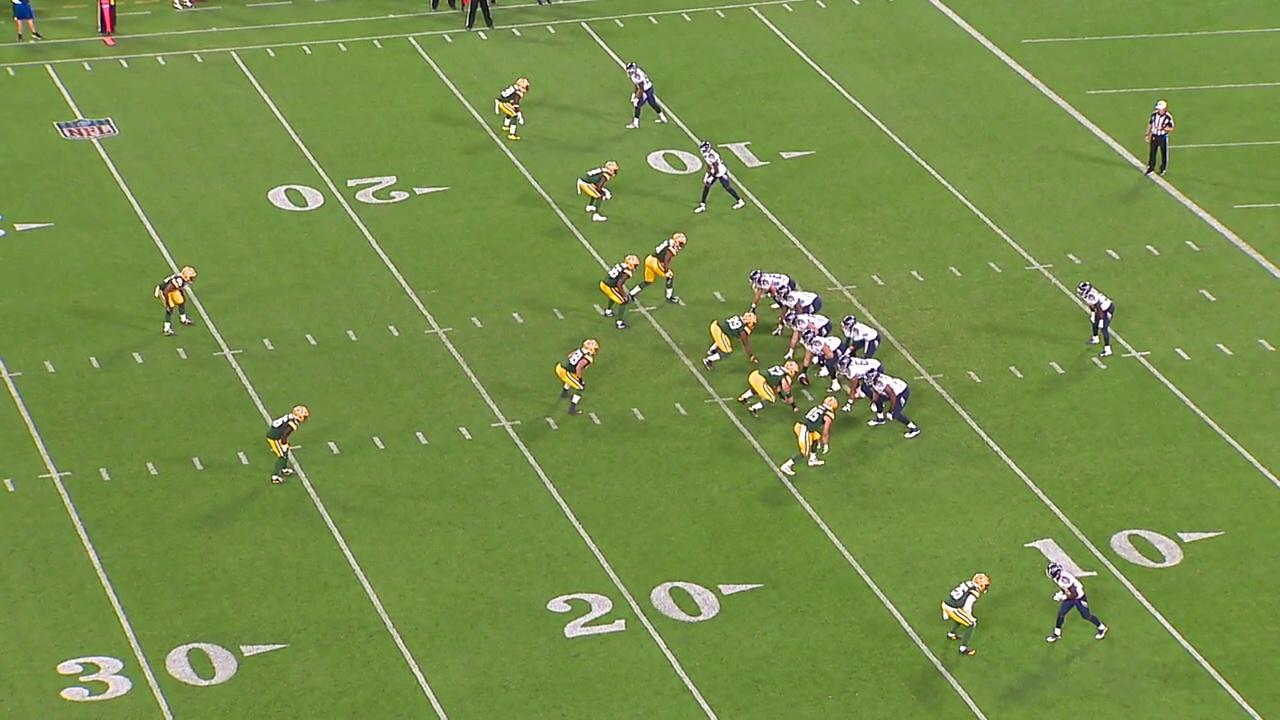five_hash: (422, 326, 453, 334), (628, 305, 658, 313), (490, 420, 523, 427), (211, 349, 244, 356), (826, 284, 858, 291), (1120, 351, 1151, 358), (1025, 263, 1055, 270), (702, 397, 736, 403), (911, 374, 944, 380)
hash: (0, 476, 19, 495), (369, 434, 389, 452), (541, 415, 562, 432), (1007, 363, 1026, 381), (187, 454, 206, 472), (629, 406, 649, 423), (455, 425, 475, 442), (233, 450, 253, 467), (1214, 342, 1235, 358), (962, 369, 983, 385), (1255, 338, 1277, 353), (673, 400, 691, 418), (95, 466, 113, 484), (1088, 355, 1107, 372), (1047, 359, 1066, 376), (412, 429, 431, 446), (143, 459, 160, 478), (799, 386, 817, 403), (549, 306, 568, 322), (1174, 346, 1193, 362), (324, 440, 343, 456), (173, 345, 191, 361), (301, 333, 321, 347), (86, 354, 103, 370), (509, 310, 526, 326), (587, 410, 604, 426), (260, 336, 276, 352), (469, 314, 485, 330), (385, 324, 402, 339), (343, 329, 361, 343), (711, 290, 729, 304), (1144, 243, 1162, 257), (1184, 239, 1202, 253), (869, 273, 885, 288), (908, 268, 925, 282), (947, 265, 964, 279), (986, 260, 1003, 274), (1066, 252, 1083, 266), (130, 349, 145, 364), (1105, 248, 1122, 261), (43, 360, 57, 374), (592, 302, 606, 316)
